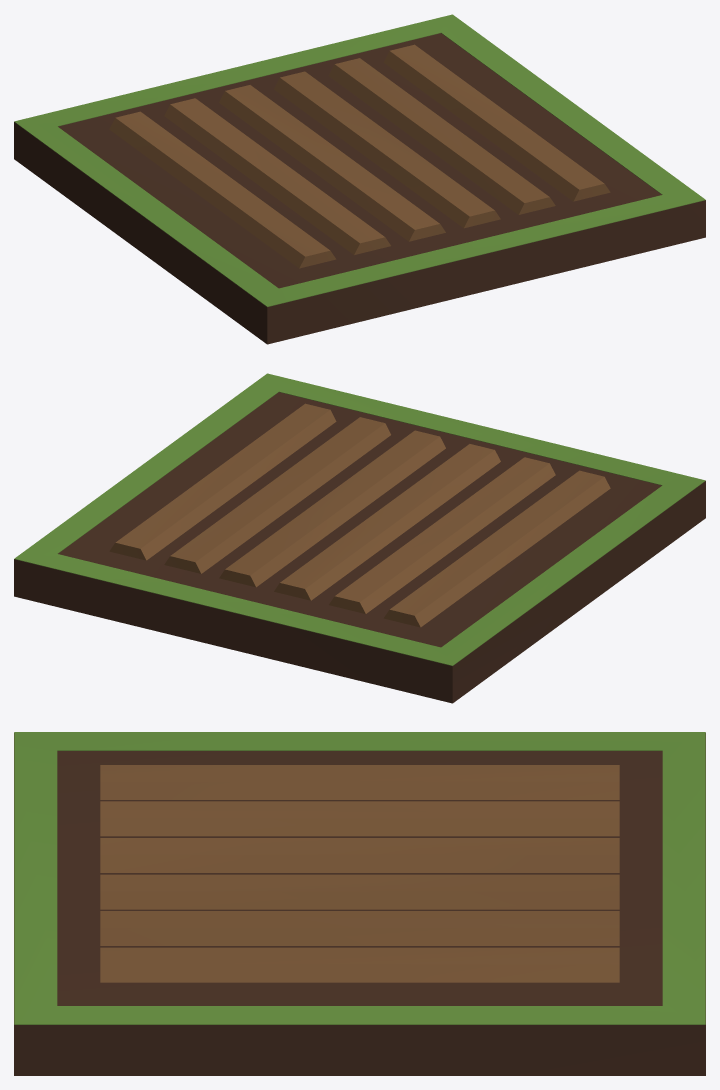
The model's file is Environment_Pastoral_RaisedField8m_001.glb.
3 views of the same model, one above another, from view 1: azimuth 30°, elevation 25°; view 2: azimuth 150°, elevation 25°; view 3: azimuth 270°, elevation 25° (orthographic). The views are drawn at different scales.
Parts seen in each view (by area): view 1: PA_RaisedField8m_Body; view 2: PA_RaisedField8m_Body; view 3: PA_RaisedField8m_Body.
Boxes of the visible parts, x1=… form: PA_RaisedField8m_Body: x1=14, y1=14, x2=705, y2=344; PA_RaisedField8m_Body: x1=14, y1=373, x2=705, y2=703; PA_RaisedField8m_Body: x1=14, y1=732, x2=705, y2=1075.
Size of the model in its own units: 8 by 0.83 by 8.
